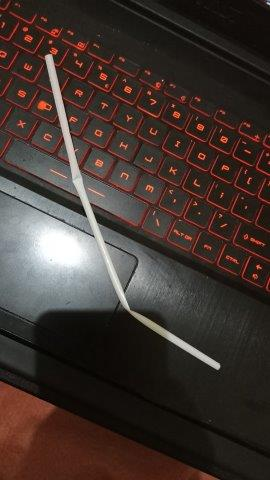sedotan: (45, 54, 220, 370)
